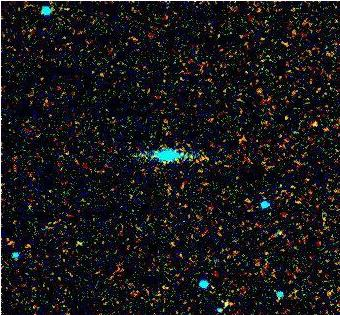star: (300, 111, 330, 141)
